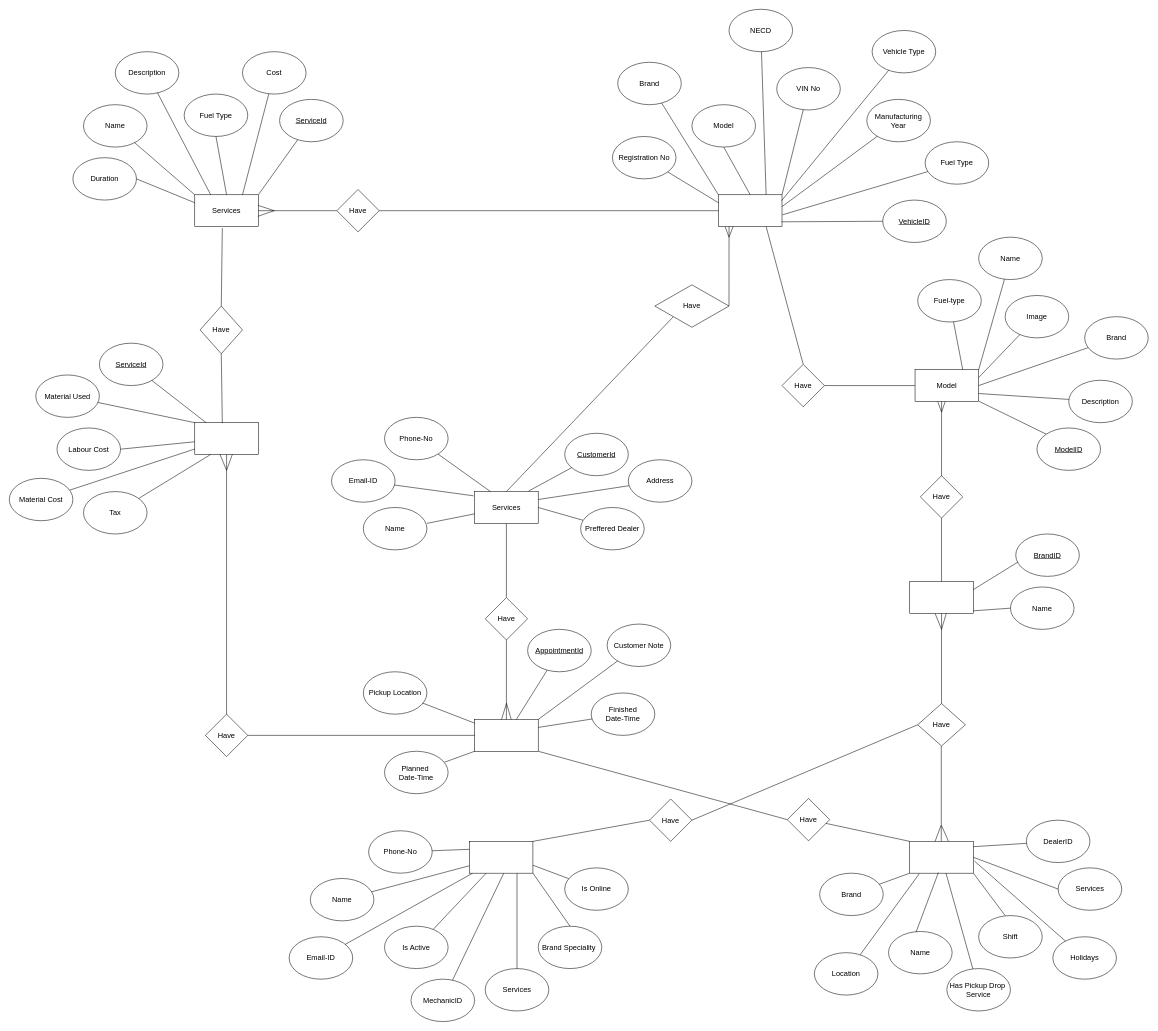
The diagram is 1158 pixels wide and 1031 high, and some of its shapes have lost their labels. Each missing label, with the centre of its shape:
"Appointments" belongs at (x=506, y=735).
"Brands" belongs at (x=941, y=597).
"Dealer" belongs at (x=941, y=857).
"Mechanic" belongs at (x=501, y=857).
"Service Details" belongs at (x=226, y=438).
"Vehicle" belongs at (x=750, y=210).
